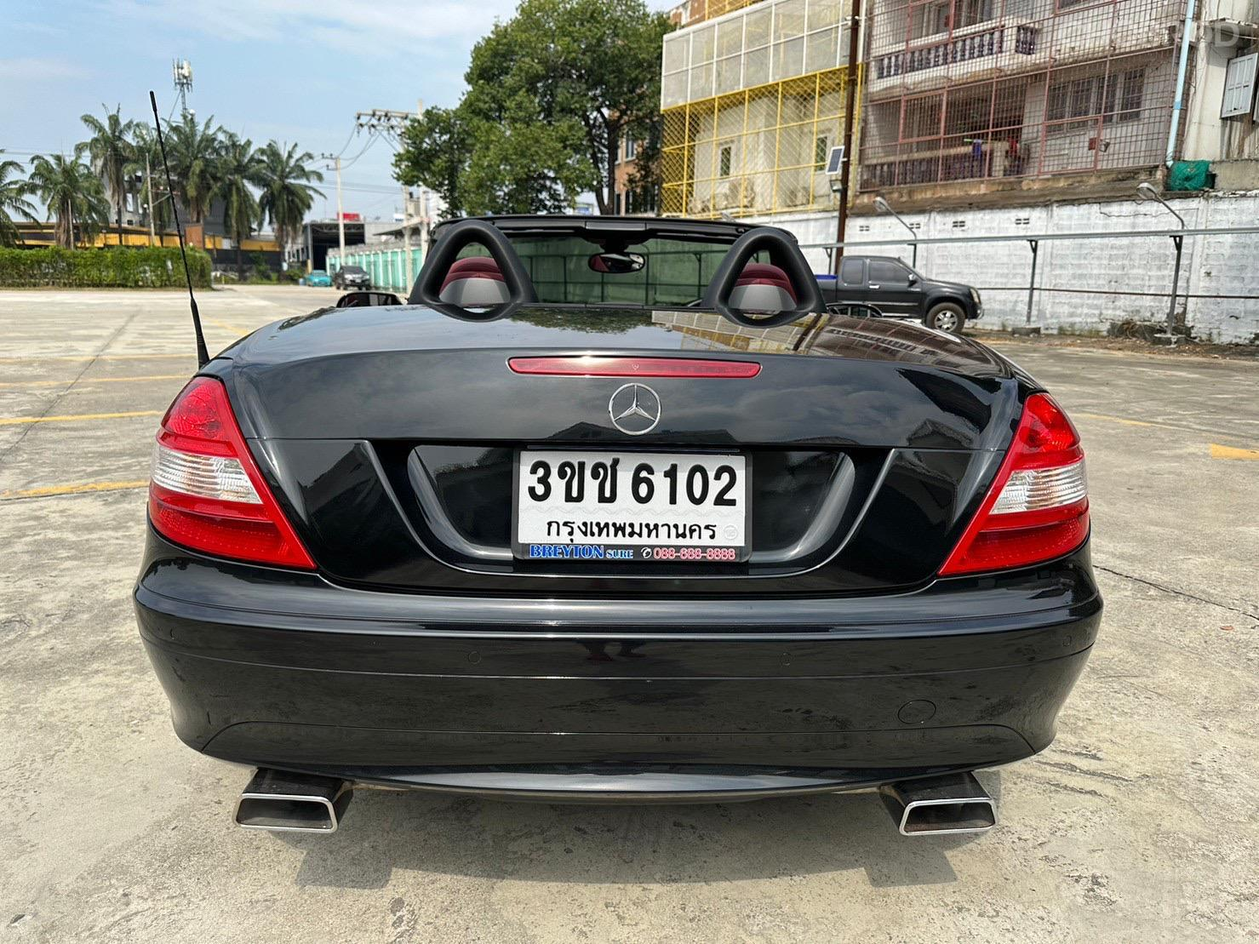license-plate: (507, 436, 755, 575)
